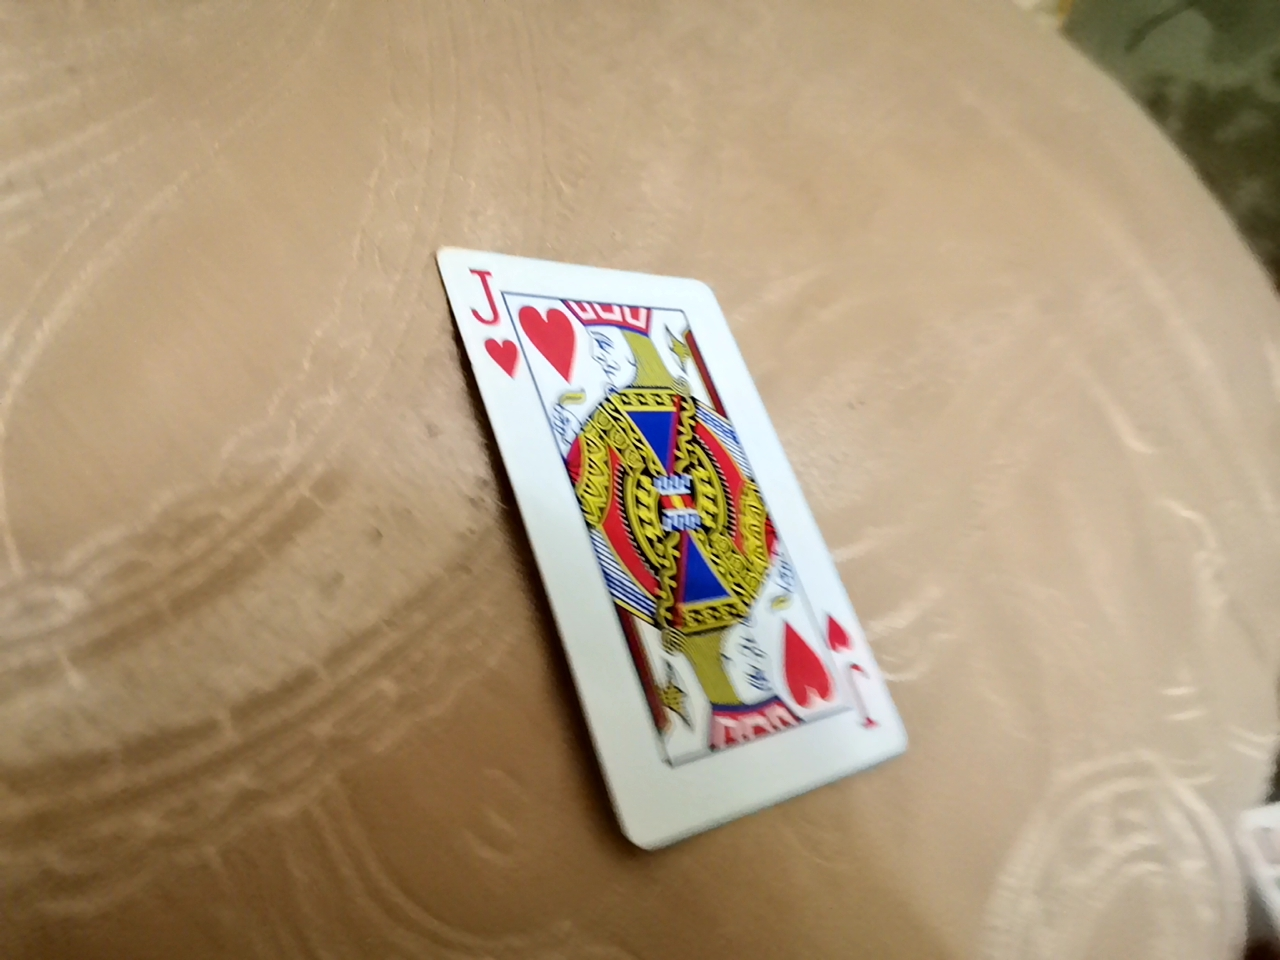hx j: (459, 240, 946, 840)
